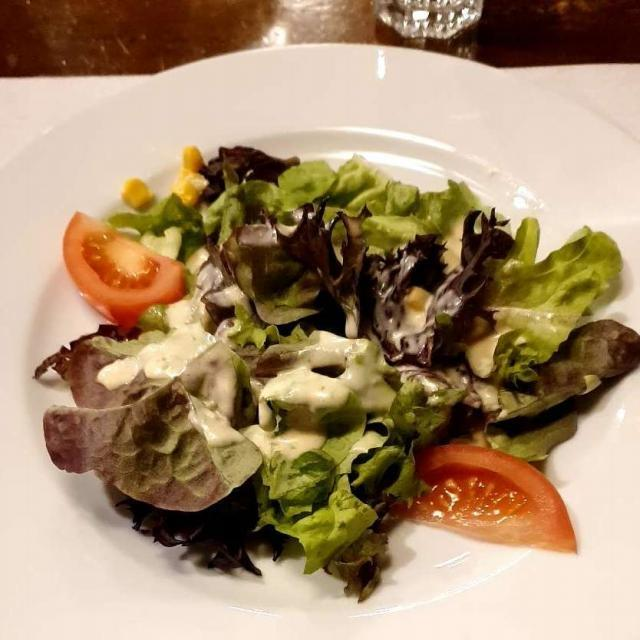salad: (60, 153, 617, 594), (110, 267, 394, 467)
tomato: (70, 206, 582, 560)
